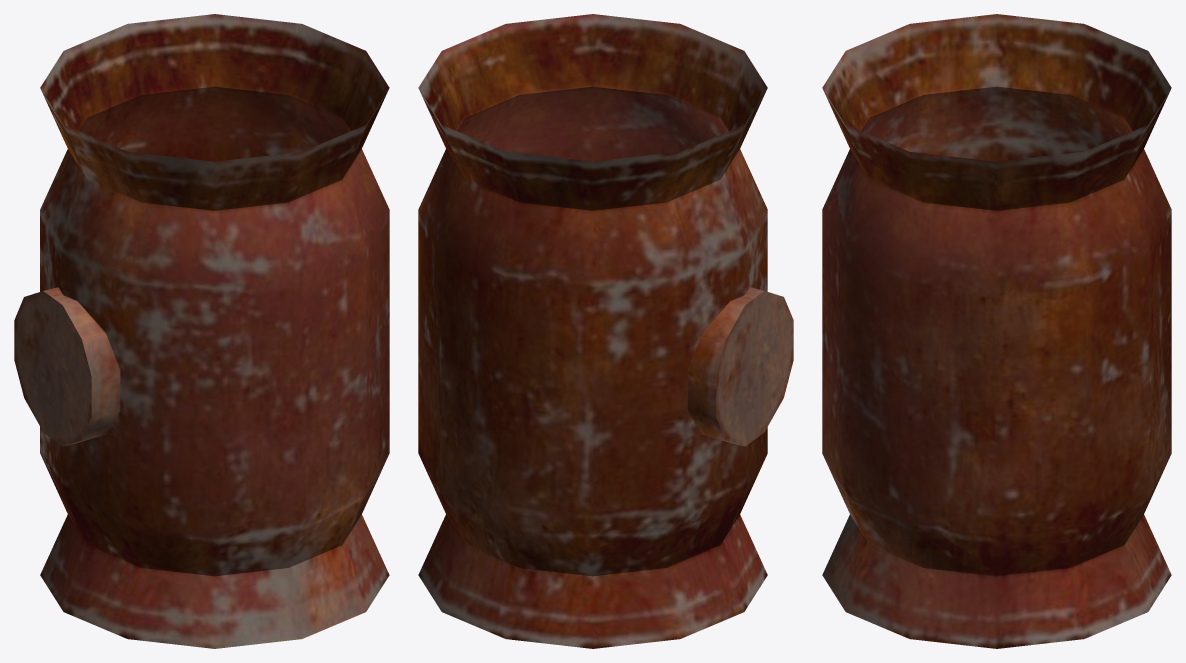
File: stylized_pipe_01.glb
The picture shows the model from 3 angles, left to right: view 1: azimuth 30°, elevation 25°; view 2: azimuth 150°, elevation 25°; view 3: azimuth 270°, elevation 25°; orthographic projection.
Visible parts, largest first — view 1: stylized_pipe_01; view 2: stylized_pipe_01; view 3: stylized_pipe_01.
Boxes of the visible parts, x1,y1,x2,y2 form: stylized_pipe_01: [14, 14, 389, 648]; stylized_pipe_01: [418, 14, 793, 648]; stylized_pipe_01: [822, 14, 1171, 648].
Size of what is drawn, in the model's own units: 0.0861 by 0.128 by 0.0832.
Materials: 1 (1 with a texture image).
